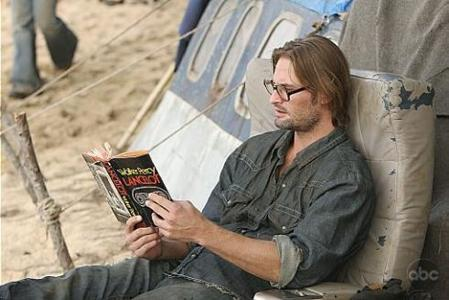person: (1, 36, 377, 300)
